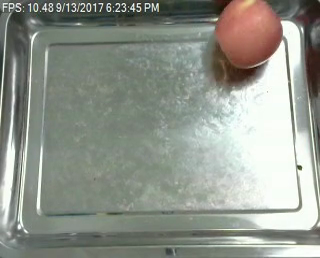Apple: (211, 0, 285, 70)
